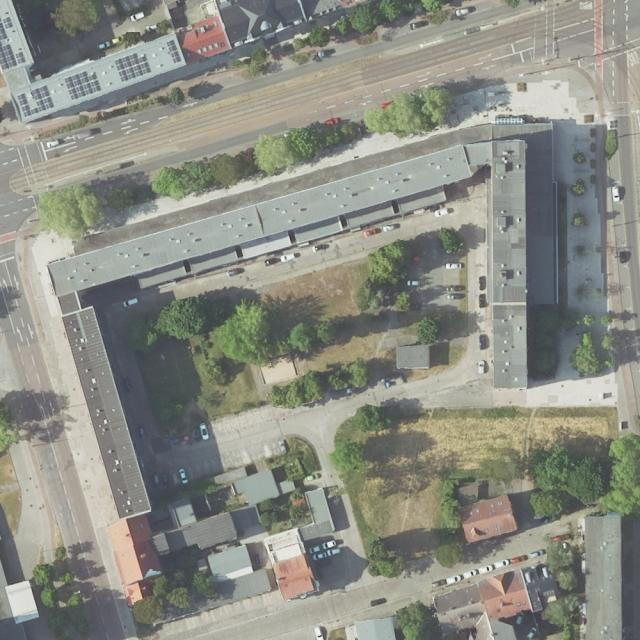PV: (2, 15, 27, 72), (65, 70, 103, 105), (17, 85, 55, 119), (115, 51, 152, 84), (167, 38, 180, 64)
